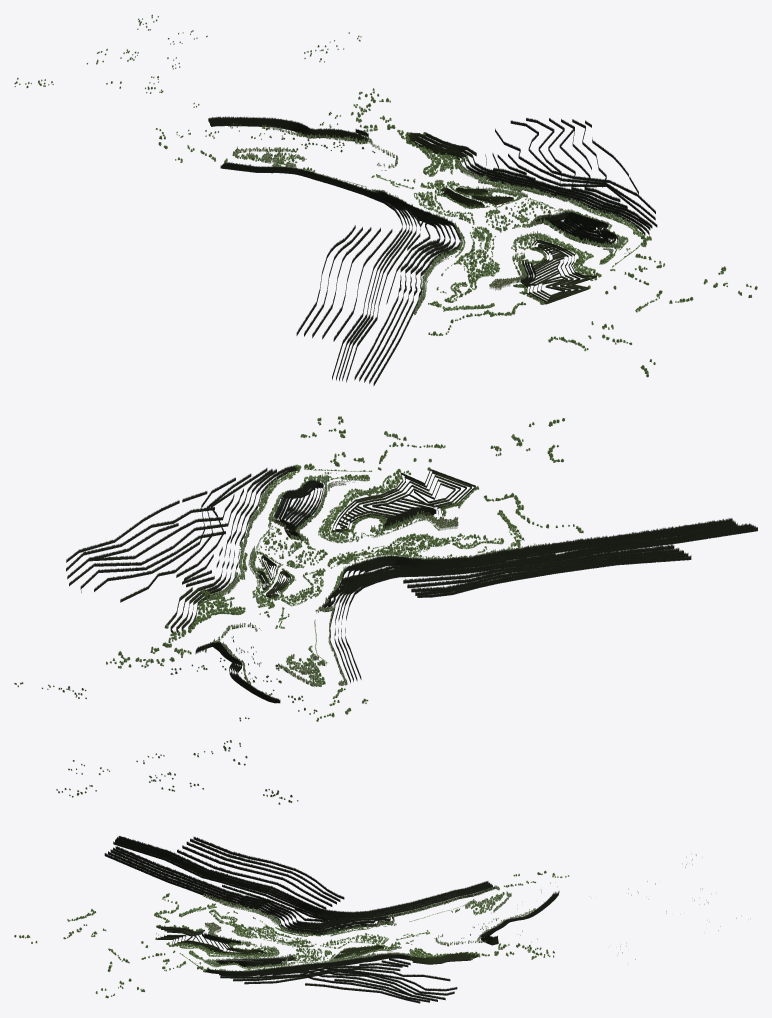
The model's file is trees.glb.
3 views of the same model, one above another, from view 1: azimuth 30°, elevation 25°; view 2: azimuth 150°, elevation 25°; view 3: azimuth 270°, elevation 25° (orthographic). The views are drawn at different scales.
Visible parts, largest first — view 1: spa_2022.096, spa_2022.095, spa_2022.094; view 2: spa_2022.096, spa_2022.095, spa_2022.094; view 3: spa_2022.096, spa_2022.095, spa_2022.094.
Boxes of the visible parts, x1,y1,x2,y2 form: spa_2022.096: (208, 116, 657, 385); spa_2022.095: (14, 14, 757, 377); spa_2022.094: (224, 124, 637, 314); spa_2022.096: (66, 465, 757, 703); spa_2022.095: (14, 416, 583, 804); spa_2022.094: (205, 474, 549, 686); spa_2022.096: (104, 836, 559, 1003); spa_2022.095: (14, 854, 750, 998); spa_2022.094: (203, 885, 535, 971).
Bounding box in the file's own units: 2931 × 176 × 5474.
5 materials, 5 textured.
